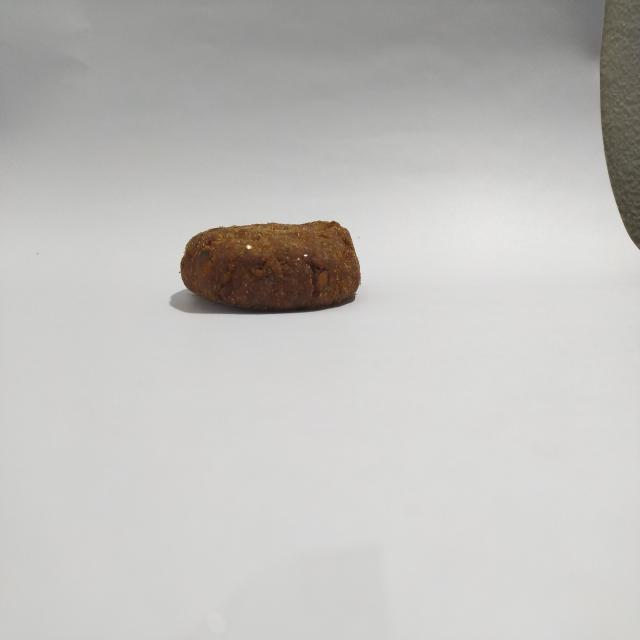Food: (173, 215, 373, 328)
